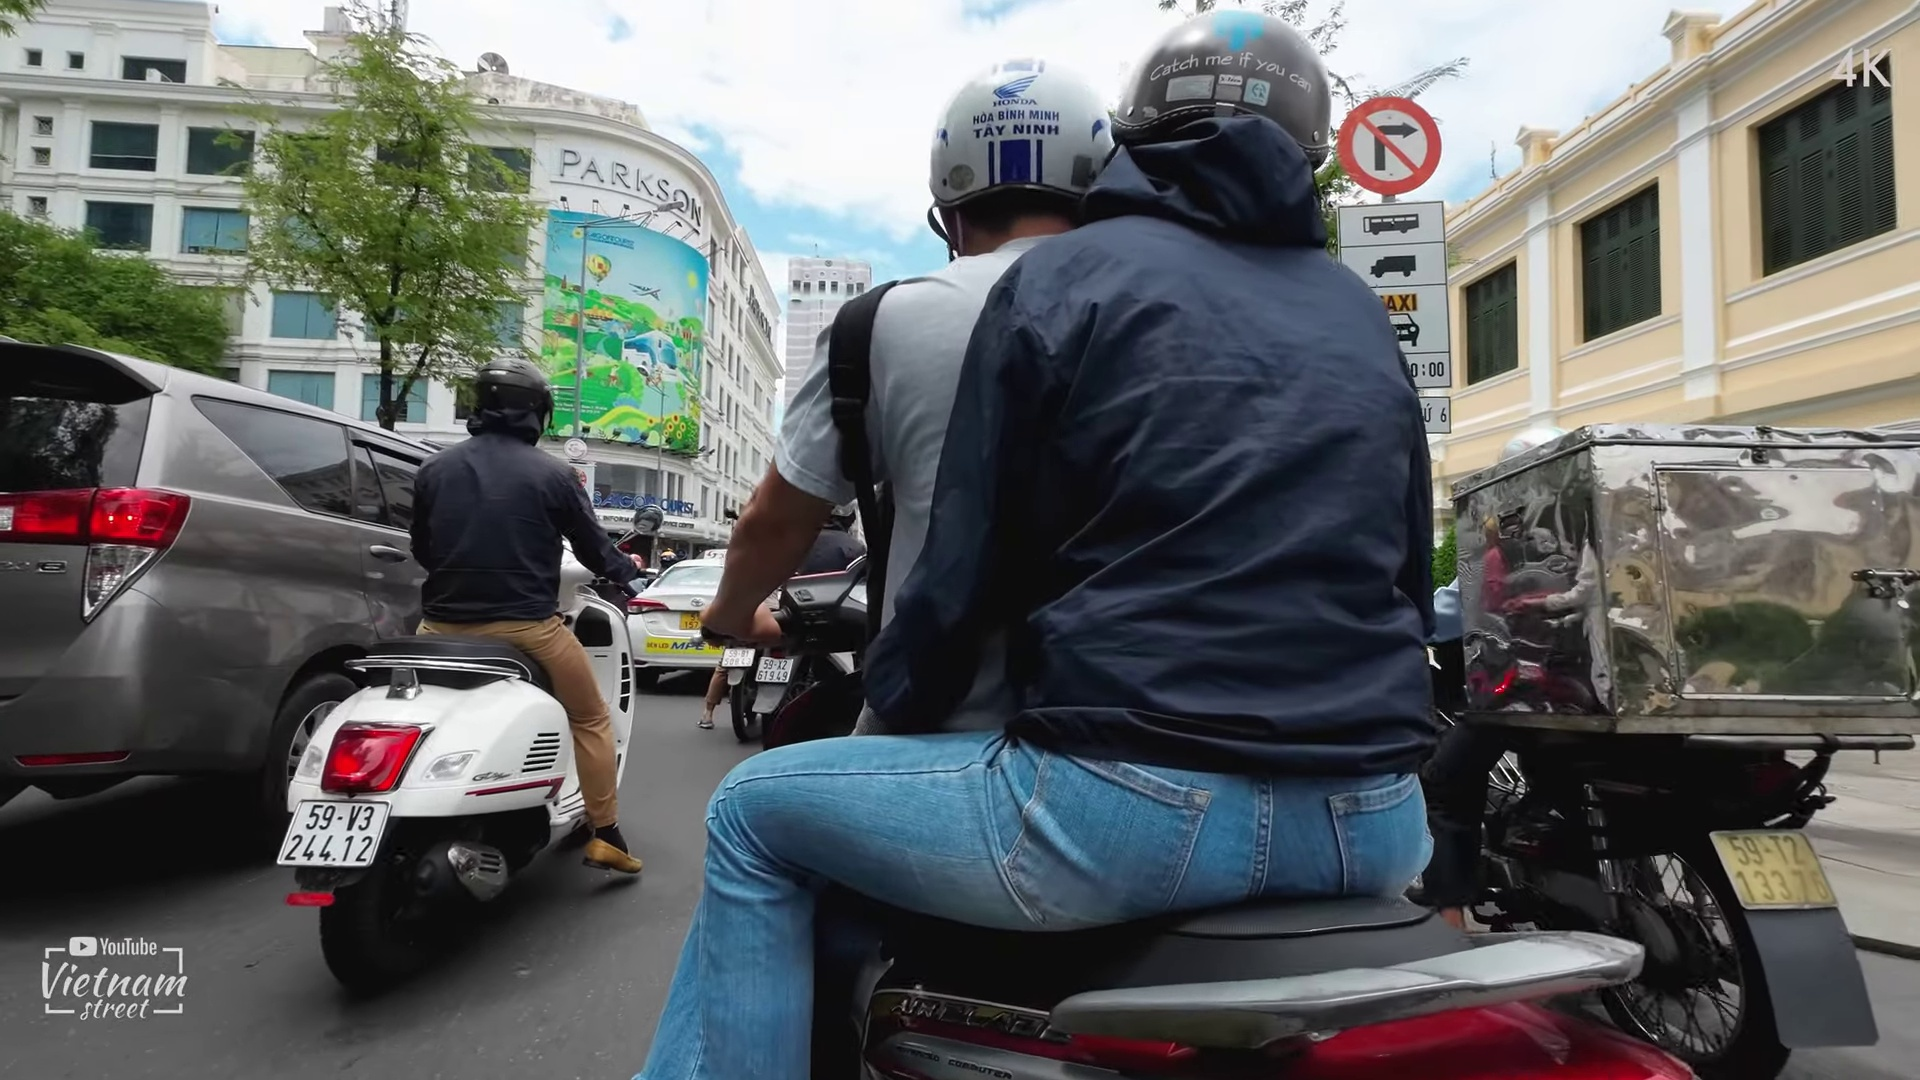cam_re_phai: (1332, 86, 1445, 202)
